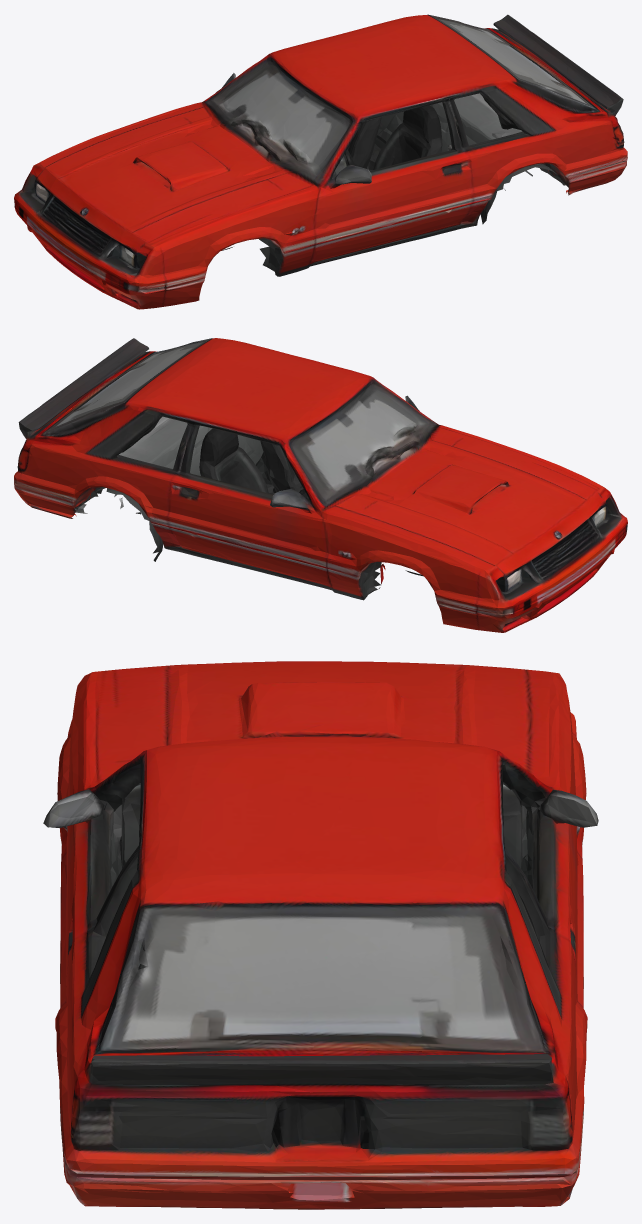
Rendered from body.glb.
3 renders of one model, top to bottom at view 1: azimuth 30°, elevation 25°; view 2: azimuth 150°, elevation 25°; view 3: azimuth 270°, elevation 25°, orthographic. The views are drawn at different scales.
Parts seen in each view (by area): view 1: tripo_node_5b2e7e6c-250b-4b17-9eff-e9fc3ccb7df2; view 2: tripo_node_5b2e7e6c-250b-4b17-9eff-e9fc3ccb7df2; view 3: tripo_node_5b2e7e6c-250b-4b17-9eff-e9fc3ccb7df2.
Boxes of the visible parts, box(x1,y1,x2,y2) form: tripo_node_5b2e7e6c-250b-4b17-9eff-e9fc3ccb7df2: box(14, 14, 627, 309); tripo_node_5b2e7e6c-250b-4b17-9eff-e9fc3ccb7df2: box(14, 338, 627, 632); tripo_node_5b2e7e6c-250b-4b17-9eff-e9fc3ccb7df2: box(43, 661, 598, 1209).
Bounding box in the file's own units: 4.58 × 1.27 × 2.17.
1 material, 1 textured.
